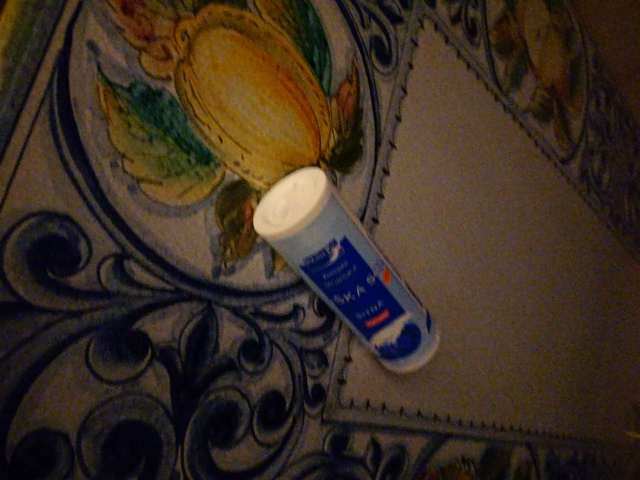Solana Pag Fine Sea Salt 250g: (248, 163, 445, 378)
